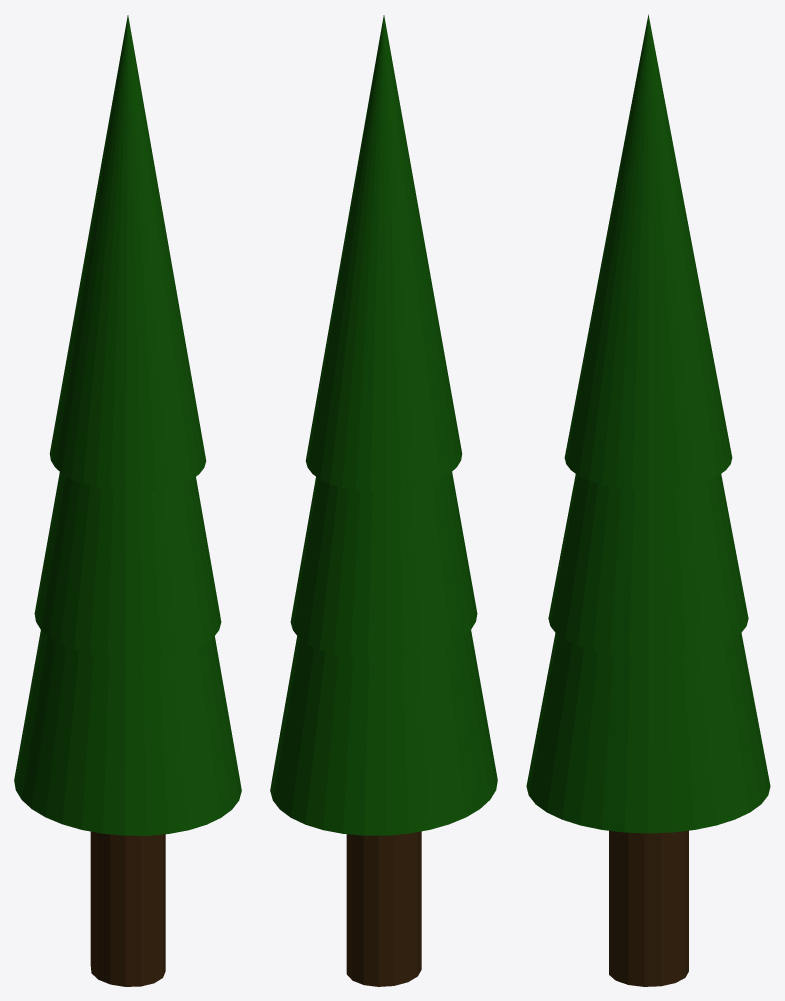
File: tree_2.fbx
3 views of the same model, side by side, from view 1: azimuth 30°, elevation 25°; view 2: azimuth 150°, elevation 25°; view 3: azimuth 270°, elevation 25° (orthographic).
Parts seen in each view (by area): view 1: tree_4; view 2: tree_4; view 3: tree_4.
Part boxes in pixels (x1,y1,x2,y2): tree_4: (14, 15, 241, 986); tree_4: (270, 15, 497, 986); tree_4: (526, 14, 770, 986).
Bounding box in the file's own units: 2041 × 9691 × 2239.
